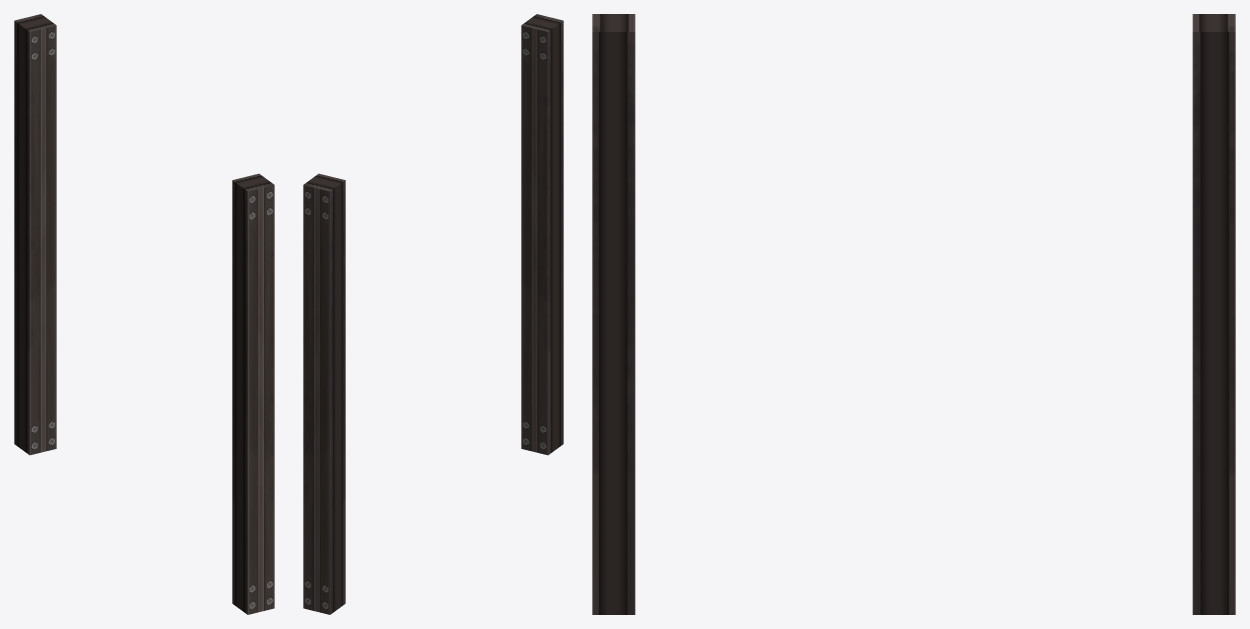
The model's file is elevator01_rail.FBX.
3 views of the same model, side by side, from view 1: azimuth 30°, elevation 25°; view 2: azimuth 150°, elevation 25°; view 3: azimuth 270°, elevation 25° (orthographic). The views are drawn at different scales.
Visible parts, largest first — view 1: elevator_rail; view 2: elevator_rail; view 3: elevator_rail.
Part boxes in pixels (x1,y1,x2,y2): elevator_rail: (14,14,274,614); elevator_rail: (303,14,563,614); elevator_rail: (592,14,1235,614).
Size of the model in its own units: 20 by 300 by 300.
